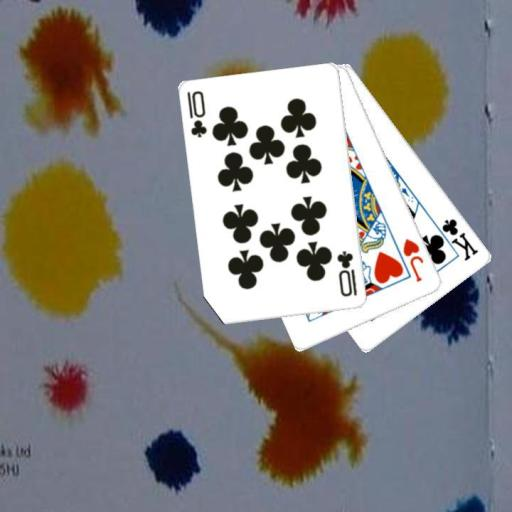10C: (334, 248, 359, 299), (185, 88, 209, 140)
JH: (400, 235, 425, 284)
KC: (430, 216, 480, 263)
